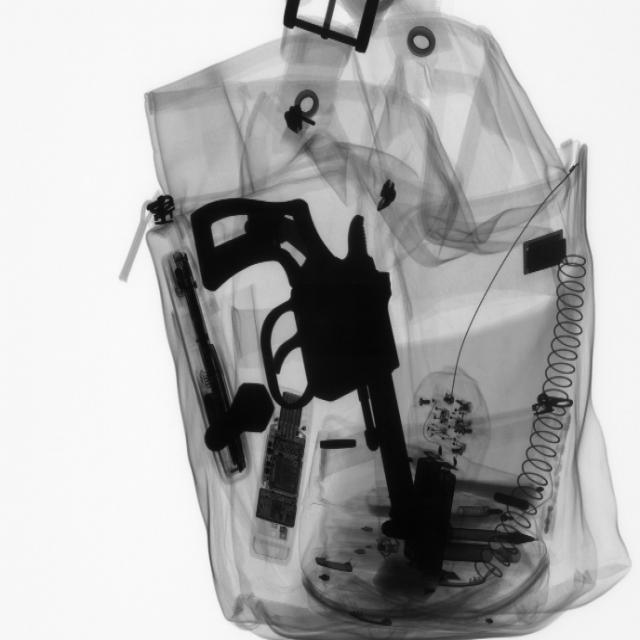GUN: (187, 194, 418, 505)
